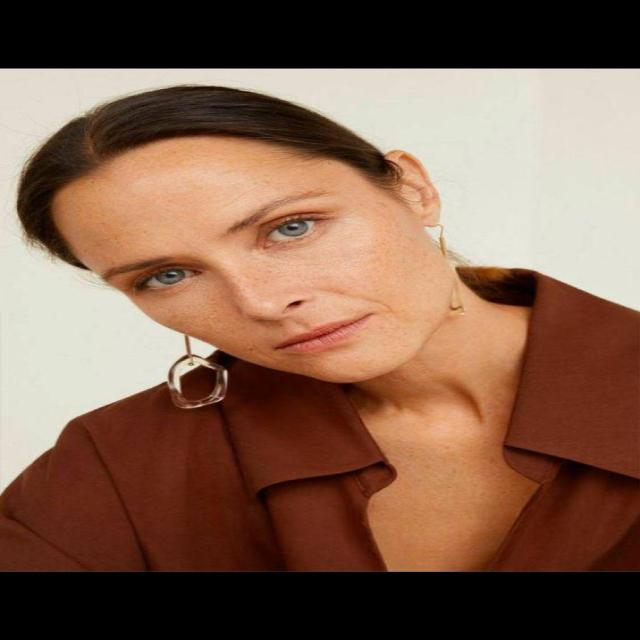Wrinkles: (201, 187, 258, 222)
